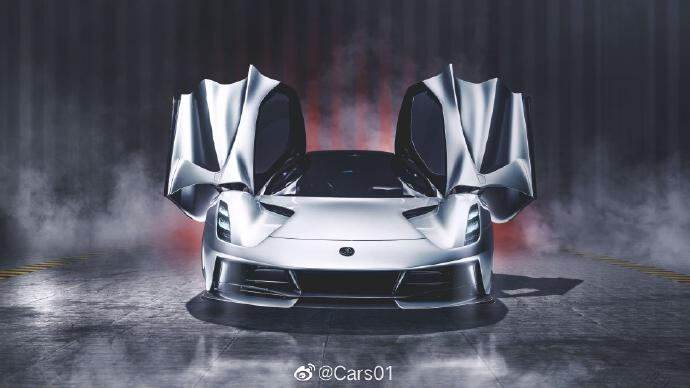other: (198, 128, 501, 318)
